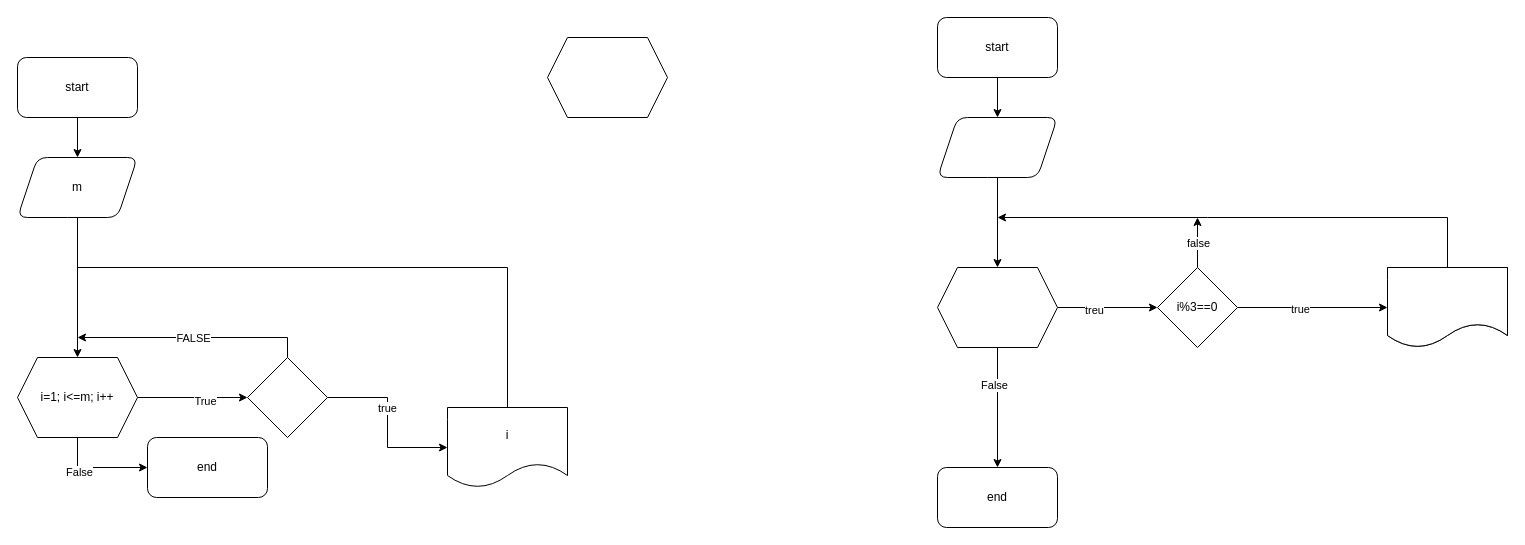
This 1525x545 diagram has some shape labels left out. Here are the shapes that lost their labels. From the top down, the centre of each, then its label:
[607,77]: i=n ; n<= i <=m ; i++
[997,147]: m,n
[997,307]: i=n ; i<=m; i++
[1447,307]: Eded bolunur 3-'e (i)
[287,397]: i%2==0
